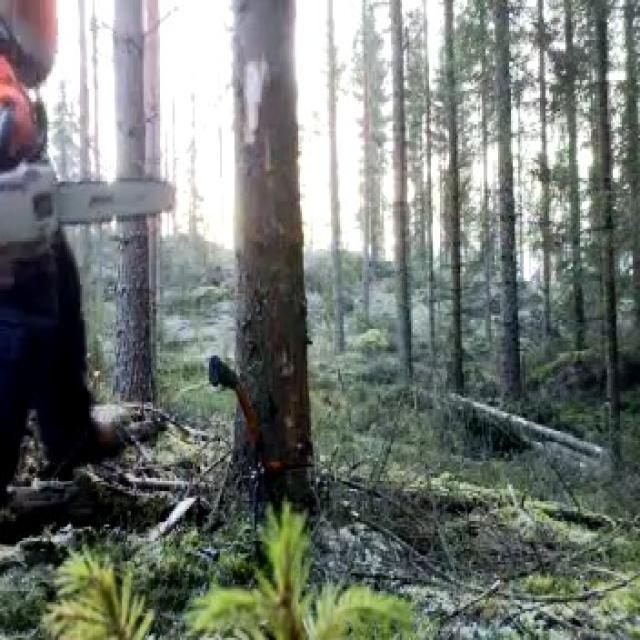Chainsaw: (0, 131, 184, 265)
